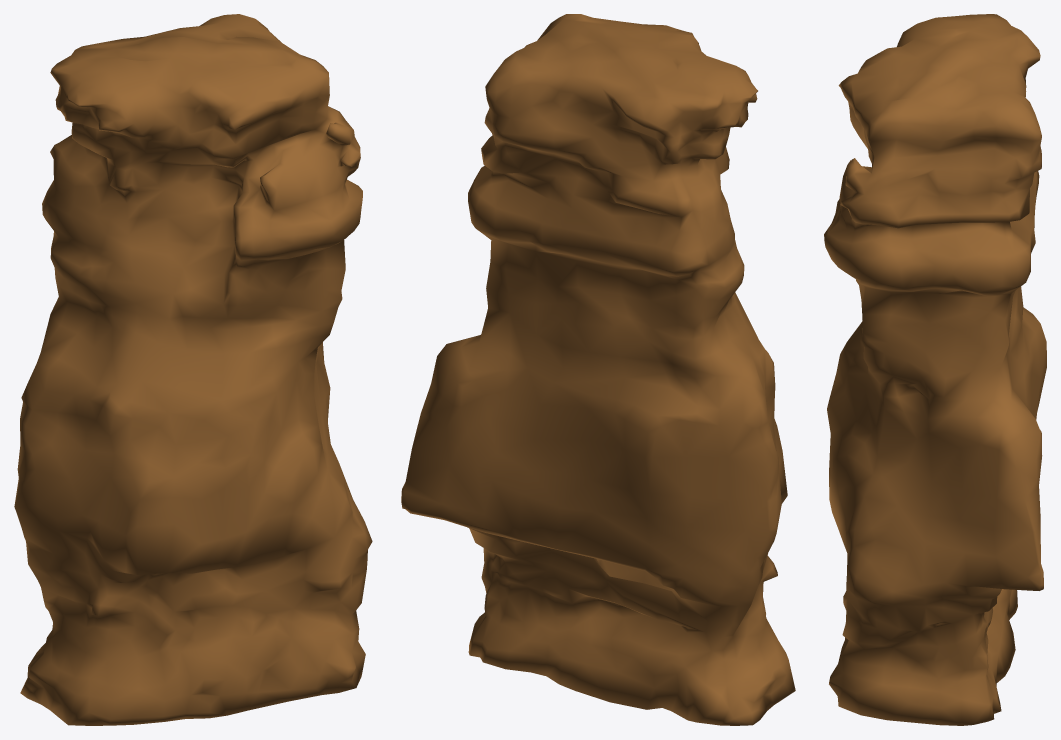
Rendered from MSH_Rocks_Cliff_17_a.FBX.
The picture shows the model from 3 angles, left to right: view 1: azimuth 30°, elevation 25°; view 2: azimuth 150°, elevation 25°; view 3: azimuth 270°, elevation 25°; orthographic projection. The views are drawn at different scales.
Parts seen in each view (by area): view 1: MESH_LOD0; view 2: MESH_LOD0; view 3: MESH_LOD0.
Boxes of the visible parts, x1,y1,x2,y2 form: MESH_LOD0: (14,14,372,725); MESH_LOD0: (401,14,795,725); MESH_LOD0: (824,14,1046,725).
Size of what is drawn, in the model's own units: 248 by 442 by 146.
